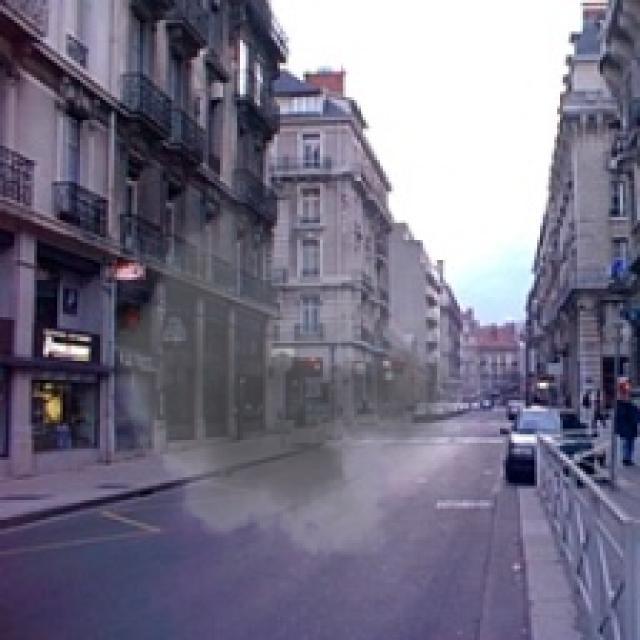smoke: (89, 166, 488, 577)
